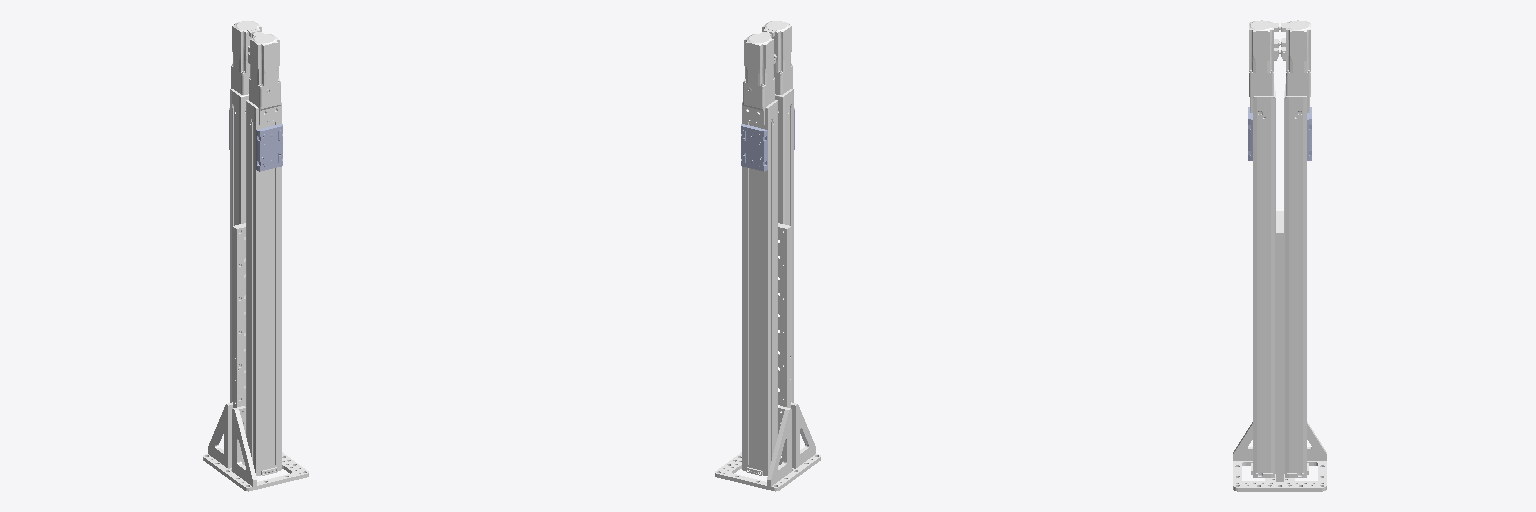
The robot description file, URDF, robot "Slide_rail":
<?xml version="1.0"?>
<!-- Revolute-Revolute Manipulator -->
<robot name="Slide_rail" xmlns:xacro="http://www.ros.org/wiki/xacro">

  <link
    name="base_link">
    <inertial>
      <origin
        xyz="-0.0851417739507414 -0.00235325608423029 0.461901876327646"
        rpy="0 0 0" />
      <mass
        value="13.2157378026818" />
      <inertia
        ixx="1.5723643860749"
        ixy="-0.0018400889955638"
        ixz="-0.0259807481556023"
        iyy="1.56653528372694"
        iyz="-0.0123413171800455"
        izz="0.0334677964955424" />
    </inertial>
    <visual>
      <origin
        xyz="0 0 0"
        rpy="0 0 0" />
      <geometry>
        <mesh
          filename="package://Slide_rail/meshes/base_link.STL" />
      </geometry>
      <material
        name="">
        <color
          rgba="1 1 1 1" />
      </material>
    </visual>
    <collision>
      <origin
        xyz="0 0 0"
        rpy="0 0 0" />
      <geometry>
        <mesh
          filename="package://Slide_rail/meshes/base_link.STL" />
      </geometry>
    </collision>
  </link>
  <link
    name="Arm_Base_R_Link">
    <inertial>
      <origin
        xyz="1.57200647357136E-05 0.022625966524659 -2.45861738434883E-06"
        rpy="0 0 0" />
      <mass
        value="0.0915148495066668" />
      <inertia
        ixx="8.99401518227245E-05"
        ixy="6.65500499430702E-09"
        ixz="-5.17853701338548E-09"
        iyy="0.000123418097290043"
        iyz="-1.04084246775258E-09"
        izz="3.58919292165612E-05" />
    </inertial>
    <visual>
      <origin
        xyz="0 0 0"
        rpy="0 0 0" />
      <geometry>
        <mesh
          filename="package://Slide_rail/meshes/Arm_Base_R_Link.STL" />
      </geometry>
      <material
        name="">
        <color
          rgba="0.792156862745098 0.819607843137255 0.933333333333333 1" />
      </material>
    </visual>
    <collision>
      <origin
        xyz="0 0 0"
        rpy="0 0 0" />
      <geometry>
        <mesh
          filename="package://Slide_rail/meshes/Arm_Base_R_Link.STL" />
      </geometry>
    </collision>
  </link>
  <joint
    name="Slide_R"
    type="prismatic">
    <origin
      xyz="-0.08 -0.0925 0.88886"
      rpy="-7.1169E-16 5.5825E-15 3.3307E-16" />
    <parent
      link="base_link" />
    <child
      link="Arm_Base_R_Link" />
    <axis
      xyz="0 0 1" />
    <limit
      effort="0"
      velocity="0" />
  </joint>
  <link
    name="Arm_Base_L_Link">
    <inertial>
      <origin
        xyz="-1.57200647414868E-05 -0.022625966524659 -2.45861739034403E-06"
        rpy="0 0 0" />
      <mass
        value="0.0915148495066669" />
      <inertia
        ixx="8.99401518227246E-05"
        ixy="6.655004994278E-09"
        ixz="5.1785370134074E-09"
        iyy="0.000123418097290043"
        iyz="1.04084246778742E-09"
        izz="3.58919292165613E-05" />
    </inertial>
    <visual>
      <origin
        xyz="0 0 0"
        rpy="0 0 0" />
      <geometry>
        <mesh
          filename="package://Slide_rail/meshes/Arm_Base_L_Link.STL" />
      </geometry>
      <material
        name="">
        <color
          rgba="0.792156862745098 0.819607843137255 0.933333333333333 1" />
      </material>
    </visual>
    <collision>
      <origin
        xyz="0 0 0"
        rpy="0 0 0" />
      <geometry>
        <mesh
          filename="package://Slide_rail/meshes/Arm_Base_L_Link.STL" />
      </geometry>
    </collision>
  </link>
  <joint
    name="Slide_L"
    type="prismatic">
    <origin
      xyz="-0.08 0.0925 0.88886"
      rpy="7.8352E-17 -1.301E-16 -3.8305E-16" />
    <parent
      link="base_link" />
    <child
      link="Arm_Base_L_Link" />
    <axis
      xyz="0 0 1" />
    <limit
      effort="0"
      velocity="0" />
  </joint>
</robot>

--- What the picture shows (computed from the rendered views, not written in the file) ---
The picture shows the robot from 3 angles, left to right: view 1: azimuth 30°, elevation 25°; view 2: azimuth 150°, elevation 25°; view 3: azimuth 270°, elevation 25°; orthographic projection.
Model Slide_rail with 3 links and 2 joints (2 prismatic), rooted at base_link, posed every joint at zero.
Visible links, largest first — view 1: base_link, Arm_Base_R_Link; view 2: base_link, Arm_Base_L_Link; view 3: base_link.
Boxes of the visible links, <box> form: base_link: <box>203,21,308,491</box>; Arm_Base_R_Link: <box>256,124,282,171</box>; base_link: <box>715,21,820,491</box>; Arm_Base_L_Link: <box>741,124,767,171</box>; base_link: <box>1233,20,1326,491</box>.
Size in the robot's own frame: 0.18 by 0.22 by 1.17 metres.
Meshes: 3 distinct files referenced, 3 mesh visuals loaded (3 binary STL).